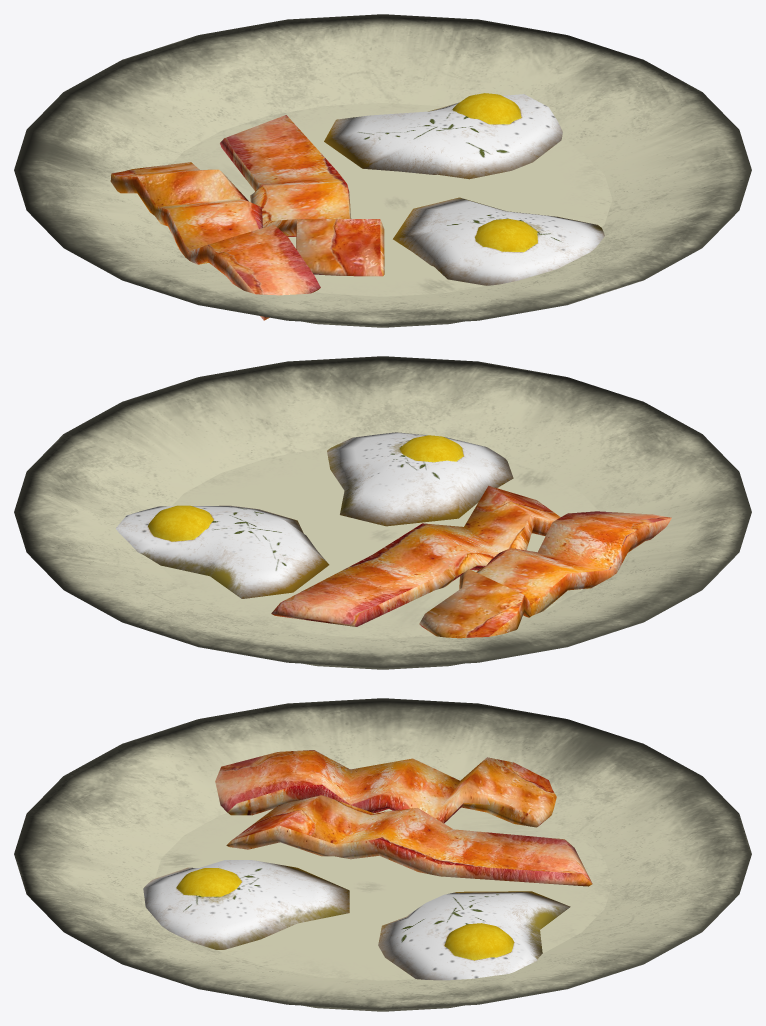
The model's file is field_plate.gltf.
3 views of the same model, one above another, from view 1: azimuth 30°, elevation 25°; view 2: azimuth 150°, elevation 25°; view 3: azimuth 270°, elevation 25° (orthographic).
Parts seen in each view (by area): view 1: Plane.003; view 2: Plane.003; view 3: Plane.003.
Part boxes in pixels (x1=…): Plane.003: x1=14, y1=14, x2=751, y2=327; Plane.003: x1=14, y1=356, x2=751, y2=669; Plane.003: x1=14, y1=698, x2=751, y2=1011.
Bounding box in the file's own units: 0.9771 × 0.075 × 0.9771.
4 materials, 4 textured.
